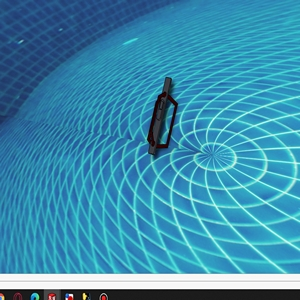submarine: (146, 73, 178, 156)
